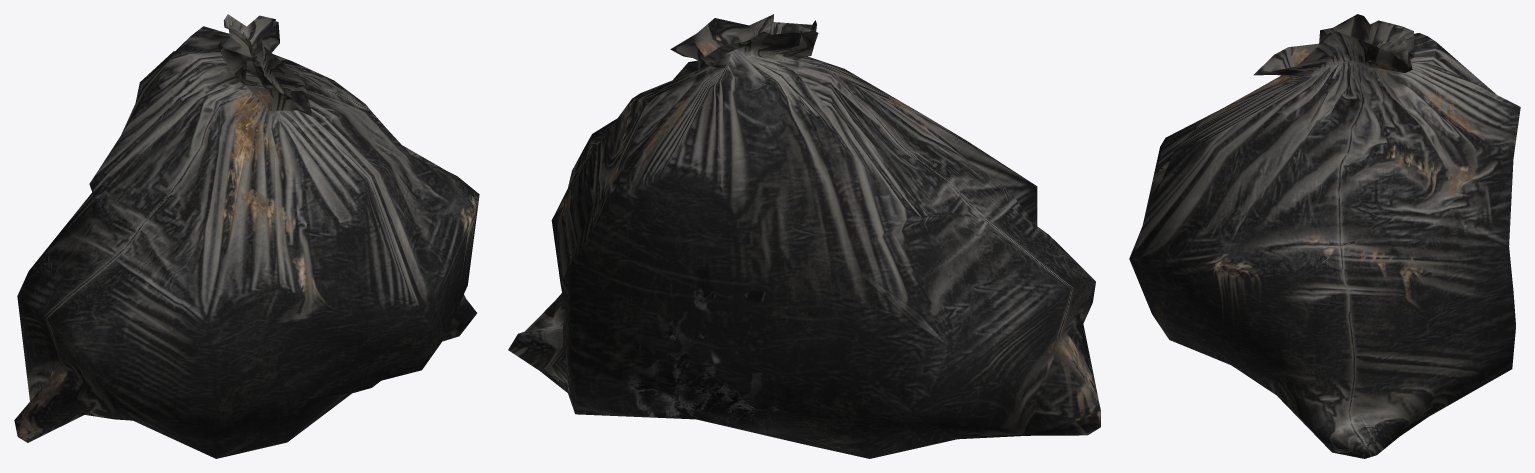
The picture shows the model from 3 angles, left to right: view 1: azimuth 30°, elevation 25°; view 2: azimuth 150°, elevation 25°; view 3: azimuth 270°, elevation 25°; orthographic projection. The views are drawn at different scales.
Parts seen in each view (by area): view 1: trash_bag001; view 2: trash_bag001; view 3: trash_bag001.
Part boxes in pixels (x1,y1,x2,y2): trash_bag001: (14, 14, 479, 458); trash_bag001: (508, 14, 1100, 458); trash_bag001: (1129, 14, 1520, 458).
Bounding box in the file's own units: 2 × 1.35 × 1.43.
Materials: 1 (1 with a texture image).
